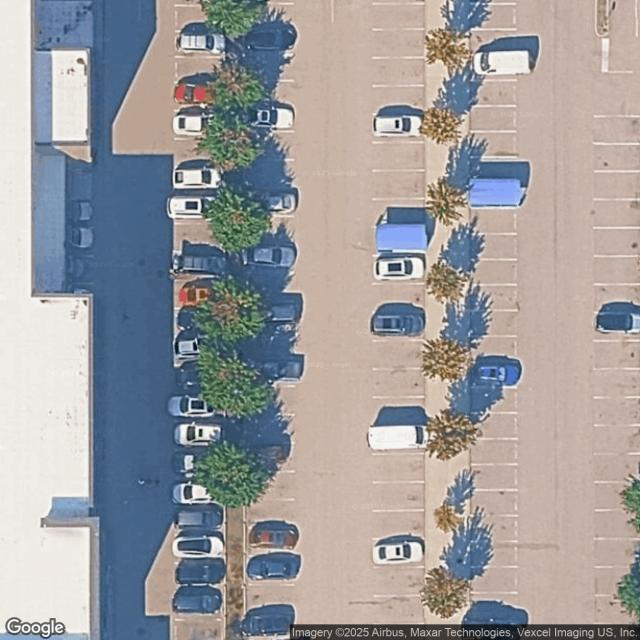car: (366, 422, 436, 452), (244, 185, 298, 215), (170, 111, 228, 138), (370, 311, 426, 338), (474, 50, 534, 75), (163, 195, 220, 221), (246, 298, 301, 324), (371, 540, 426, 566), (240, 243, 297, 268), (164, 393, 221, 418), (243, 610, 293, 638), (239, 106, 297, 130), (173, 367, 226, 393), (172, 80, 223, 107), (174, 309, 226, 335), (174, 456, 226, 482), (176, 251, 230, 276), (471, 359, 521, 386), (170, 423, 223, 448), (371, 257, 426, 281), (176, 31, 228, 56), (248, 524, 298, 550), (241, 26, 297, 49), (171, 590, 224, 614), (172, 336, 224, 360), (374, 115, 426, 139), (594, 309, 640, 336), (171, 537, 226, 559), (179, 283, 229, 307), (171, 167, 223, 190), (172, 508, 225, 530), (173, 483, 223, 506), (174, 560, 224, 583), (246, 556, 292, 579), (253, 361, 304, 381), (466, 614, 514, 634)
lot_boundary: (100, 0, 640, 640)
objects: (425, 0, 468, 640), (225, 0, 242, 640), (372, 224, 426, 255), (469, 180, 522, 206)
stall: (175, 586, 225, 620), (175, 281, 227, 313), (243, 355, 294, 386), (373, 283, 425, 312), (372, 170, 424, 199), (372, 426, 424, 455), (372, 369, 424, 398), (373, 342, 425, 371), (373, 567, 425, 596), (174, 110, 226, 139), (243, 266, 293, 296), (175, 252, 225, 282), (175, 482, 225, 512), (373, 254, 424, 283), (373, 454, 424, 483), (373, 85, 424, 114), (371, 596, 422, 625), (175, 222, 224, 252), (372, 314, 424, 342), (373, 113, 425, 141), (372, 539, 424, 567), (372, 512, 424, 540), (372, 483, 424, 511), (371, 1, 423, 29), (371, 29, 423, 57), (175, 56, 225, 85), (175, 394, 225, 423), (175, 365, 225, 394), (175, 423, 225, 452), (174, 453, 224, 482), (245, 386, 293, 416), (373, 142, 424, 170), (373, 399, 424, 427), (372, 58, 423, 86), (244, 188, 295, 216), (245, 295, 294, 324), (245, 326, 294, 355), (244, 159, 293, 188), (244, 102, 293, 131), (243, 51, 292, 80), (175, 337, 224, 366), (176, 533, 225, 562), (174, 166, 226, 193), (243, 132, 293, 160), (174, 194, 224, 222), (242, 611, 290, 640), (243, 445, 294, 472), (244, 416, 293, 444), (244, 500, 293, 528), (243, 473, 293, 500), (174, 338, 224, 365), (243, 528, 291, 556), (594, 482, 640, 511), (172, 312, 225, 337), (175, 139, 224, 166), (243, 24, 293, 50), (174, 6, 224, 32), (243, 585, 291, 612), (594, 116, 640, 144), (594, 228, 640, 256), (594, 425, 640, 453), (594, 369, 640, 397), (594, 313, 640, 341), (594, 285, 640, 313), (594, 453, 640, 481), (594, 540, 640, 568), (594, 565, 640, 593), (594, 593, 640, 621), (244, 557, 290, 585), (373, 200, 424, 225), (243, 241, 293, 266), (244, 216, 294, 241), (174, 32, 224, 57), (594, 144, 640, 171), (594, 172, 640, 199), (594, 199, 640, 226), (594, 341, 640, 368), (594, 256, 640, 283), (594, 397, 640, 424), (594, 511, 640, 538), (594, 285, 640, 312), (175, 85, 224, 110), (469, 234, 516, 260), (470, 388, 517, 414), (470, 362, 517, 388), (470, 284, 517, 310), (469, 464, 516, 490), (471, 106, 518, 132), (469, 28, 516, 54), (470, 592, 517, 618), (470, 334, 518, 359), (468, 439, 516, 464), (470, 568, 518, 593), (470, 310, 517, 335), (469, 415, 516, 440), (469, 490, 516, 515), (469, 516, 516, 541), (469, 209, 516, 234), (469, 81, 516, 106), (469, 54, 516, 79), (470, 3, 517, 28), (470, 542, 517, 567), (472, 131, 518, 156), (175, 511, 225, 534), (469, 260, 516, 284), (244, 80, 293, 103), (176, 563, 225, 585), (469, 158, 518, 179), (244, 4, 292, 25), (177, 620, 224, 640)
